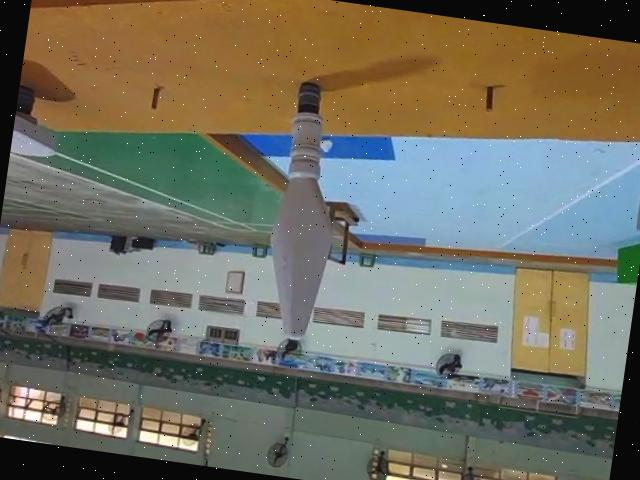Hand: (8, 84, 61, 168)
Sph: (252, 69, 356, 342)
